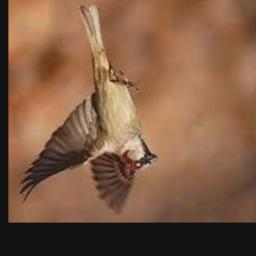Sparrow: (20, 4, 157, 215)
